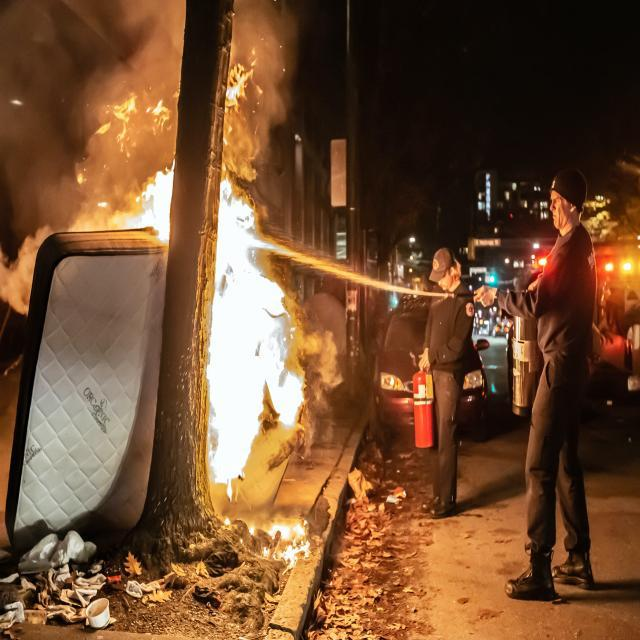Fire: (206, 176, 308, 484), (95, 92, 169, 154), (220, 55, 266, 152), (122, 168, 177, 242), (265, 520, 310, 569)
Smoke: (0, 0, 298, 321)
